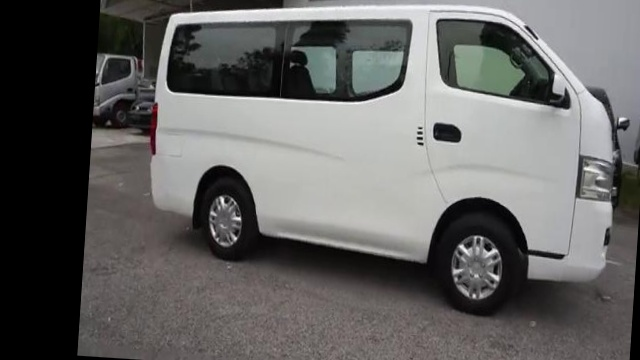van: (141, 0, 630, 317)
